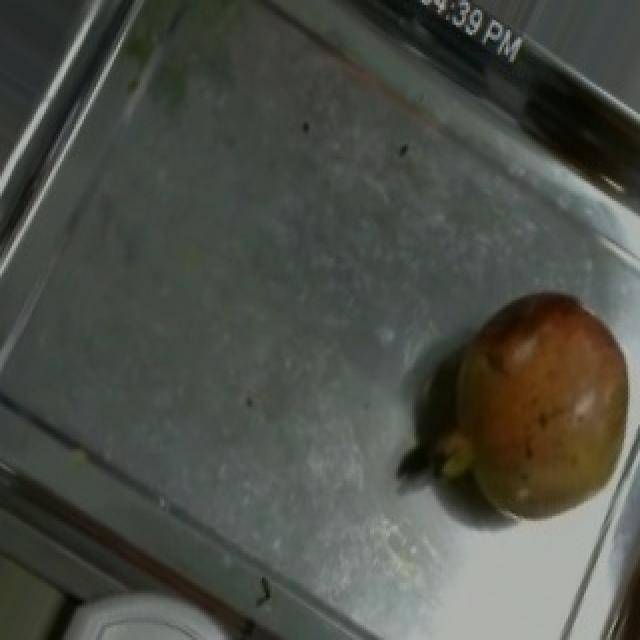fruit: (424, 261, 640, 534)
